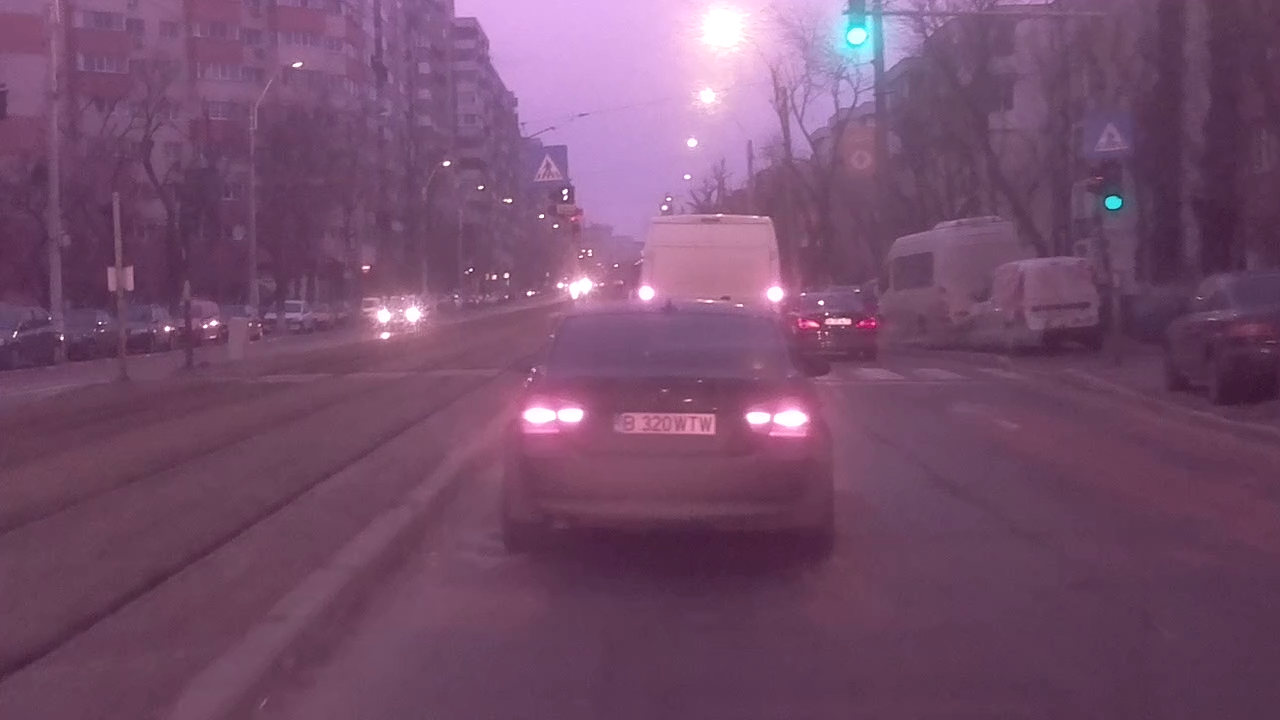license-plate: (606, 408, 719, 438)
